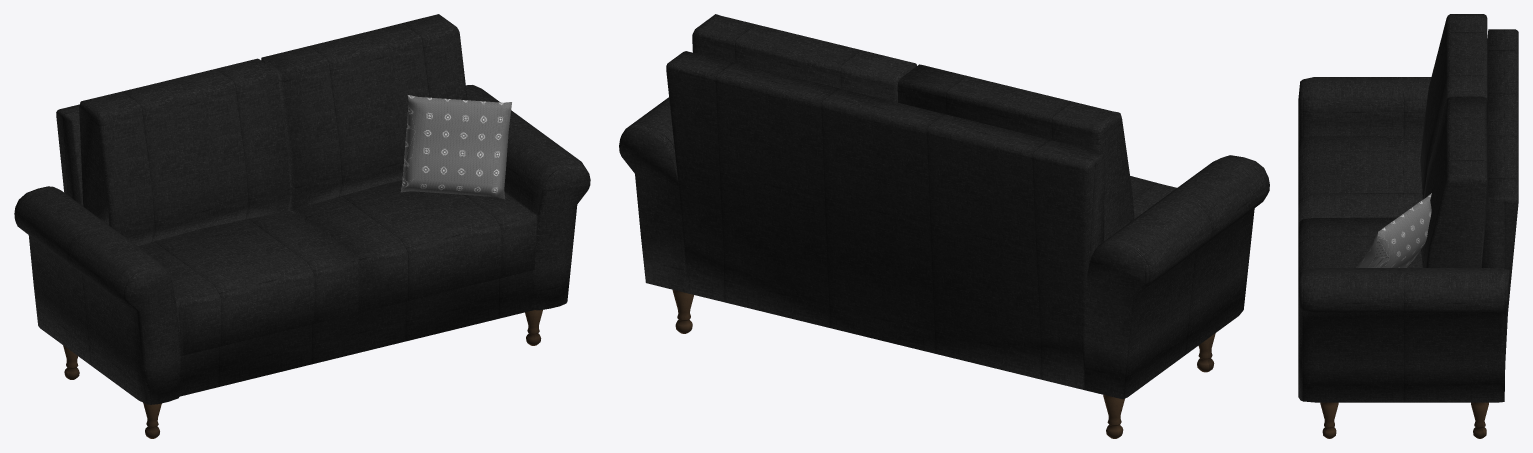
The model's file is sofatextured2.fbx.
3 views of the same model, side by side, from view 1: azimuth 30°, elevation 25°; view 2: azimuth 150°, elevation 25°; view 3: azimuth 270°, elevation 25° (orthographic). The views are drawn at different scales.
Visible parts, largest first — view 1: sofa, pillow; view 2: sofa; view 3: sofa, pillow.
Part boxes in pixels (x1,y1,x2,y2): sofa: (14,14,590,438); pillow: (401,95,511,199); sofa: (619,14,1269,438); sofa: (1298,14,1518,438); pillow: (1356,193,1431,267).
Size of the model in its own units: 505 by 279 by 219.
3 materials, 3 textured.
